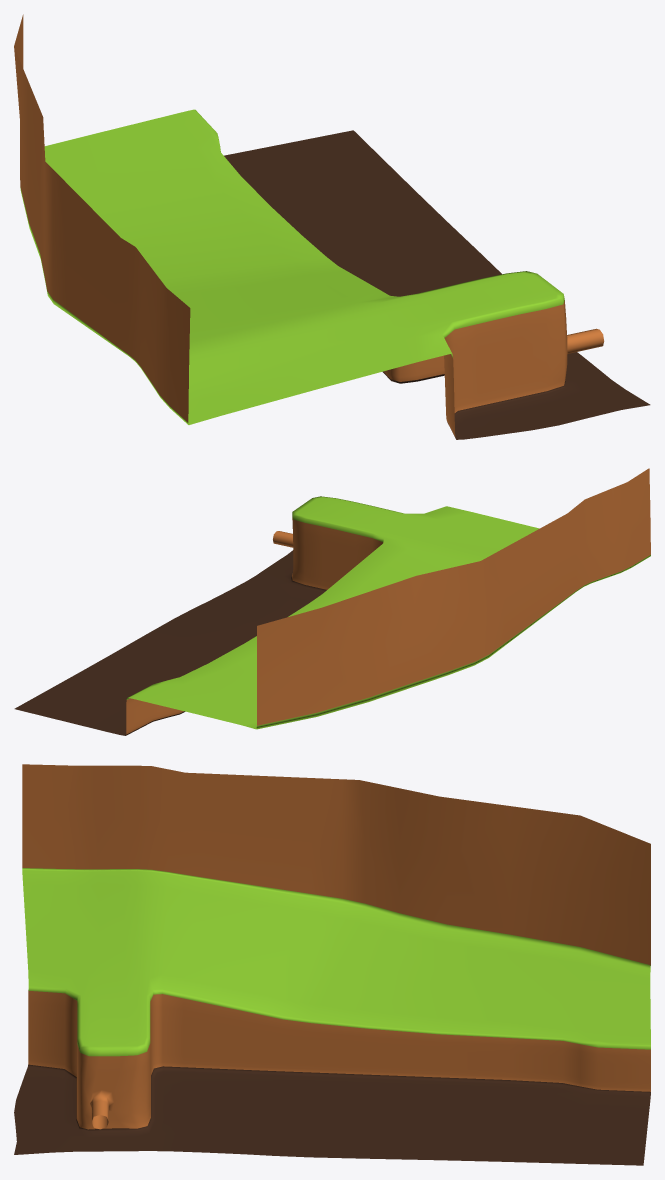
3 views of the same model, one above another, from view 1: azimuth 30°, elevation 25°; view 2: azimuth 150°, elevation 25°; view 3: azimuth 270°, elevation 25° (orthographic). The views are drawn at different scales.
Parts seen in each view (by area): view 1: pCube4; view 2: pCube4; view 3: pCube4.
Part boxes in pixels (box(x1,y1,x2,y2)): pCube4: box(14, 14, 650, 439); pCube4: box(14, 468, 650, 735); pCube4: box(14, 764, 650, 1165).
Bounding box in the file's own units: 317 × 127 × 379.
1 material, 1 textured.
